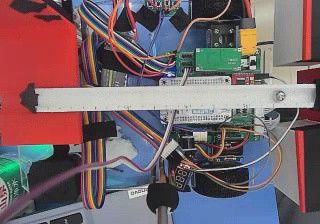ironball: (275, 89, 285, 100)
